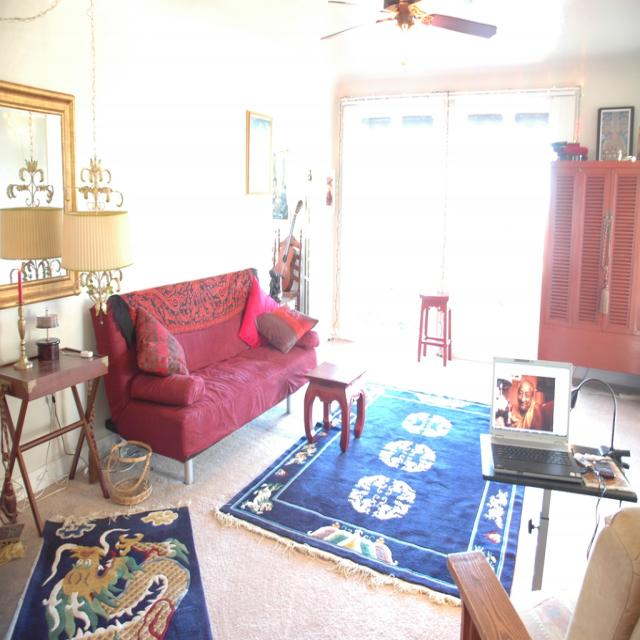Bulb: (318, 0, 496, 66)
